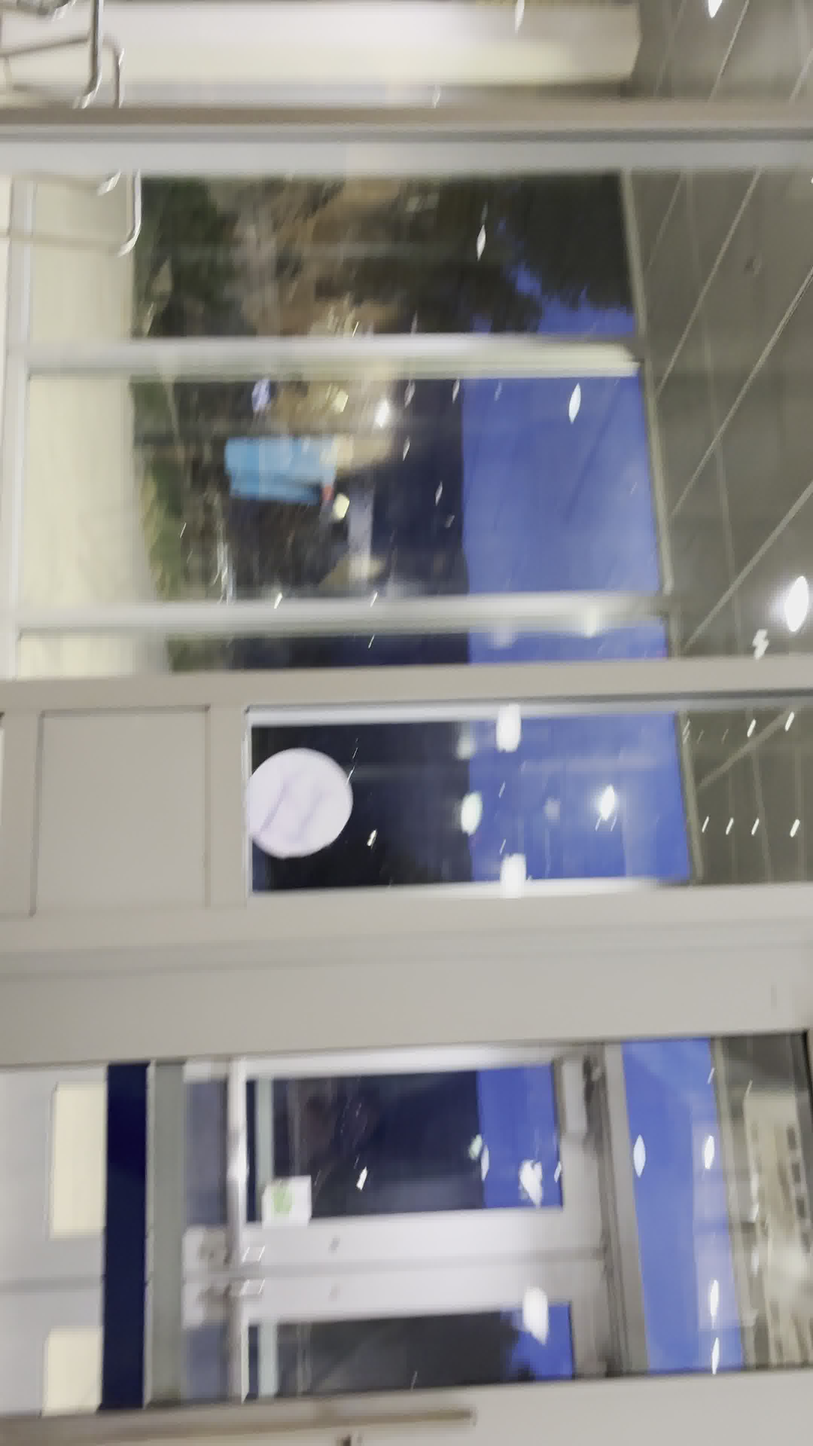Target: (242, 746, 356, 861)
